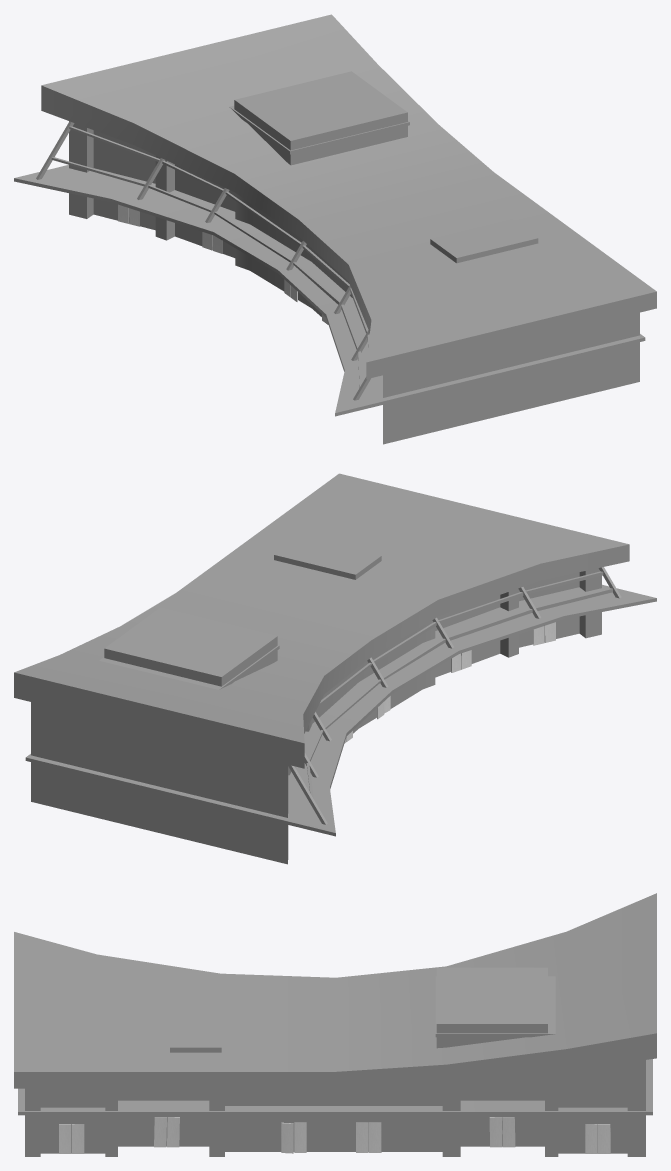
File: airport.fbx
3 renders of one model, top to bottom at view 1: azimuth 30°, elevation 25°; view 2: azimuth 150°, elevation 25°; view 3: azimuth 270°, elevation 25°, orthographic.
Parts seen in each view (by area): view 1: airport_roof, airport_base, airport_roof2, airport_mez2, airport_supports, doors; view 2: airport_roof, airport_base, airport_roof2, airport_mez2, airport_supports, doors; view 3: airport_roof, airport_base, airport_mez2, airport_roof2, doors.
Part boxes in pixels (left/top/right/bottom): airport_roof: left=41, top=14, right=656, bottom=379; airport_base: left=69, top=121, right=639, bottom=444; airport_roof2: left=14, top=165, right=645, bottom=416; airport_mez2: left=229, top=71, right=538, bottom=263; airport_supports: left=36, top=121, right=370, bottom=400; doors: left=118, top=204, right=328, bottom=324; airport_roof: left=14, top=473, right=629, bottom=768; airport_base: left=31, top=568, right=601, bottom=864; airport_roof2: left=25, top=584, right=656, bottom=836; airport_mez2: left=99, top=535, right=381, bottom=689; airport_supports: left=288, top=567, right=621, bottom=824; doors: left=344, top=622, right=555, bottom=743; airport_roof: left=14, top=893, right=656, bottom=1088; airport_base: left=25, top=1060, right=645, bottom=1156; airport_mez2: left=170, top=967, right=555, bottom=1052; airport_roof2: left=18, top=1059, right=652, bottom=1115; doors: left=59, top=1117, right=610, bottom=1153.
Bounding box in the file's own units: 34723 × 13605 × 61151.
